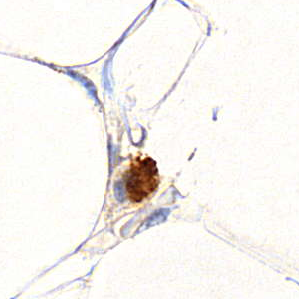Lymphocyte: (119, 154, 162, 204)
